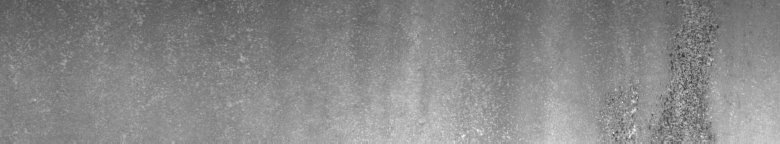hc: (613, 26, 718, 136)
